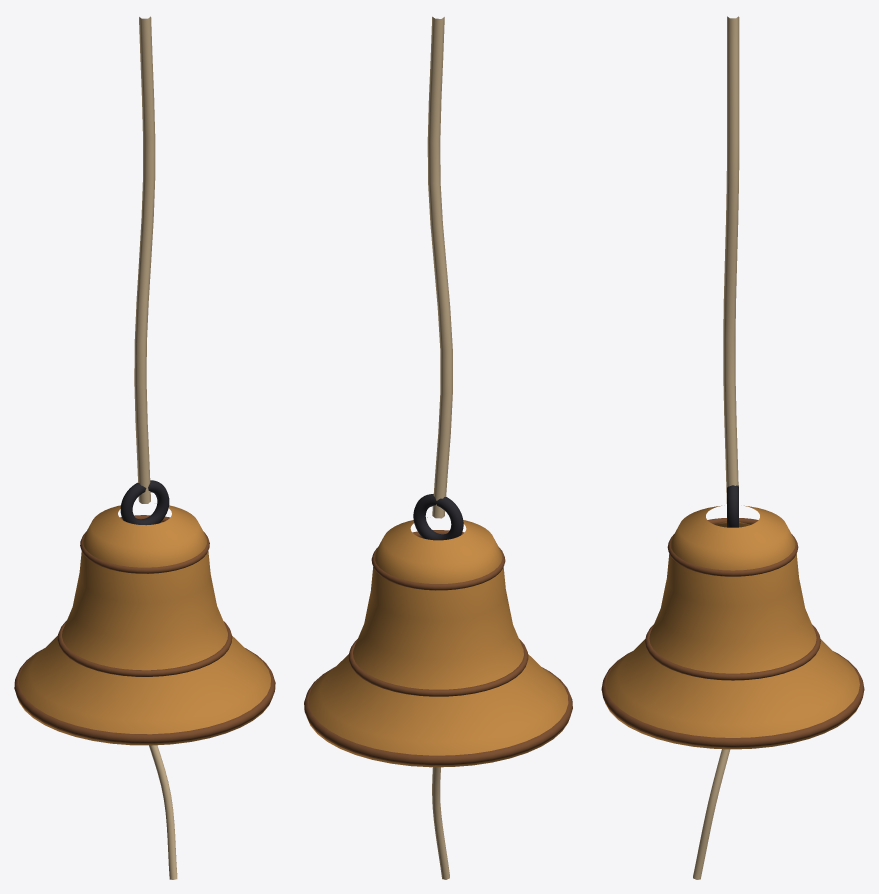
Rendered from mia-ship_bell.glb.
3 views of the same model, side by side, from view 1: azimuth 30°, elevation 25°; view 2: azimuth 150°, elevation 25°; view 3: azimuth 270°, elevation 25° (orthographic). The views are drawn at different scales.
Visible parts, largest first — view 1: Body_brass, Body_ivory, Body_rust, Body_iron; view 2: Body_brass, Body_ivory, Body_rust, Body_iron; view 3: Body_brass, Body_ivory, Body_rust.
Boxes of the visible parts, box(x1,y1,x2,y2) form: Body_brass: box(18, 503, 272, 745); Body_ivory: box(134, 16, 177, 879); Body_rust: box(14, 515, 275, 743); Body_iron: box(120, 480, 169, 525); Body_brass: box(306, 517, 568, 767); Body_ivory: box(427, 16, 452, 879); Body_rust: box(304, 530, 572, 765); Body_iron: box(413, 494, 463, 540); Body_brass: box(605, 505, 860, 749); Body_ivory: box(693, 16, 739, 879); Body_rust: box(601, 518, 864, 747).
Bounding box in the file's own units: 0.64 × 2.3 × 0.64.
